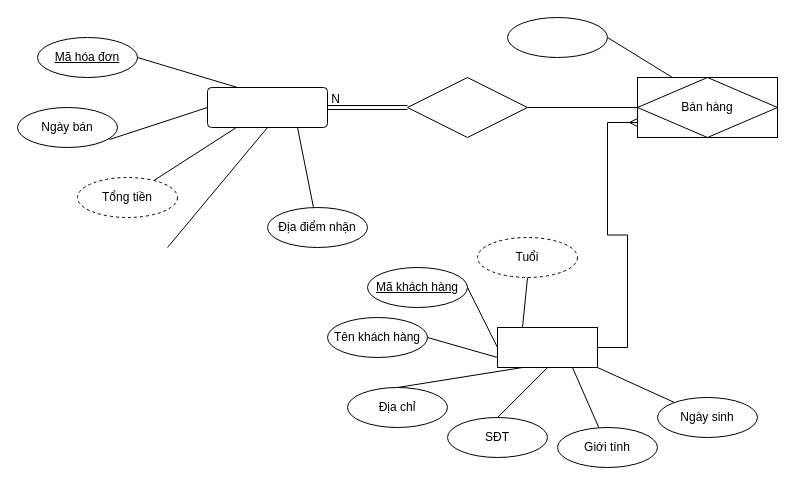
This 795x485 diagram has some shape labels left out. Here are the shapes that lost their labels. From the top down, the box of each, then its label:
(506, 16, 608, 58): Số lượng
(206, 86, 328, 128): Hóa đơn bán hàng
(406, 76, 528, 138): Tạo HĐB
(496, 326, 598, 368): Khách hàng
